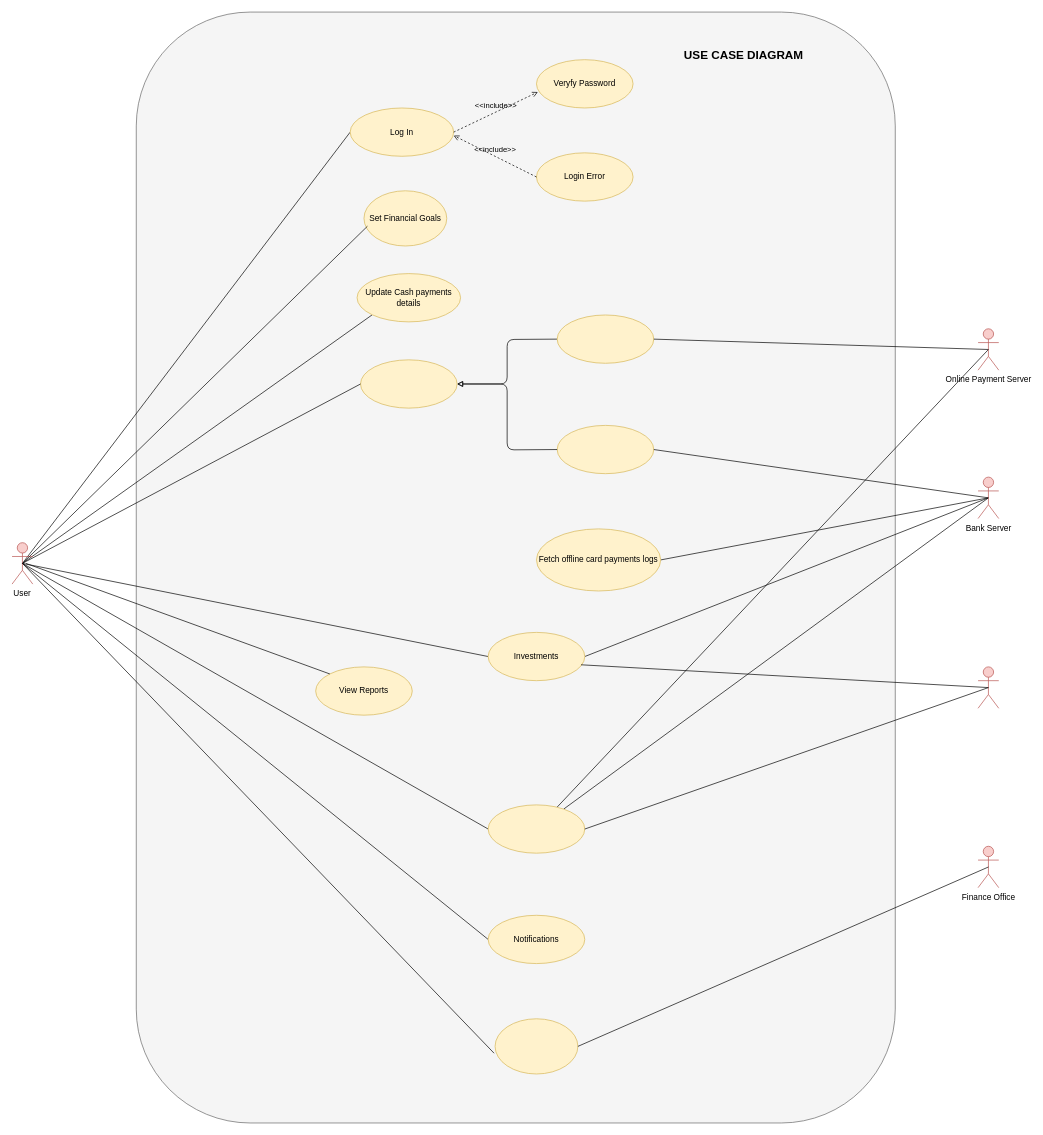
The diagram is 1043 pixels wide and 1135 high, and some of its shapes have lost their labels. Here are the shapes that lost their labels. From the top down, the centre of each, then its label:
the point at 605,338: Online Payments through app
the point at 408,383: Choose Payment Method
the point at 605,449: Online Card Payements
the point at 988,687: Stock Servers
the point at 536,828: Offers
the point at 536,1046: Credit Score
